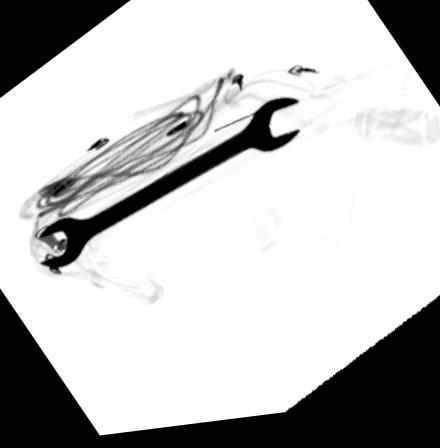Wrench: (37, 102, 305, 268)
